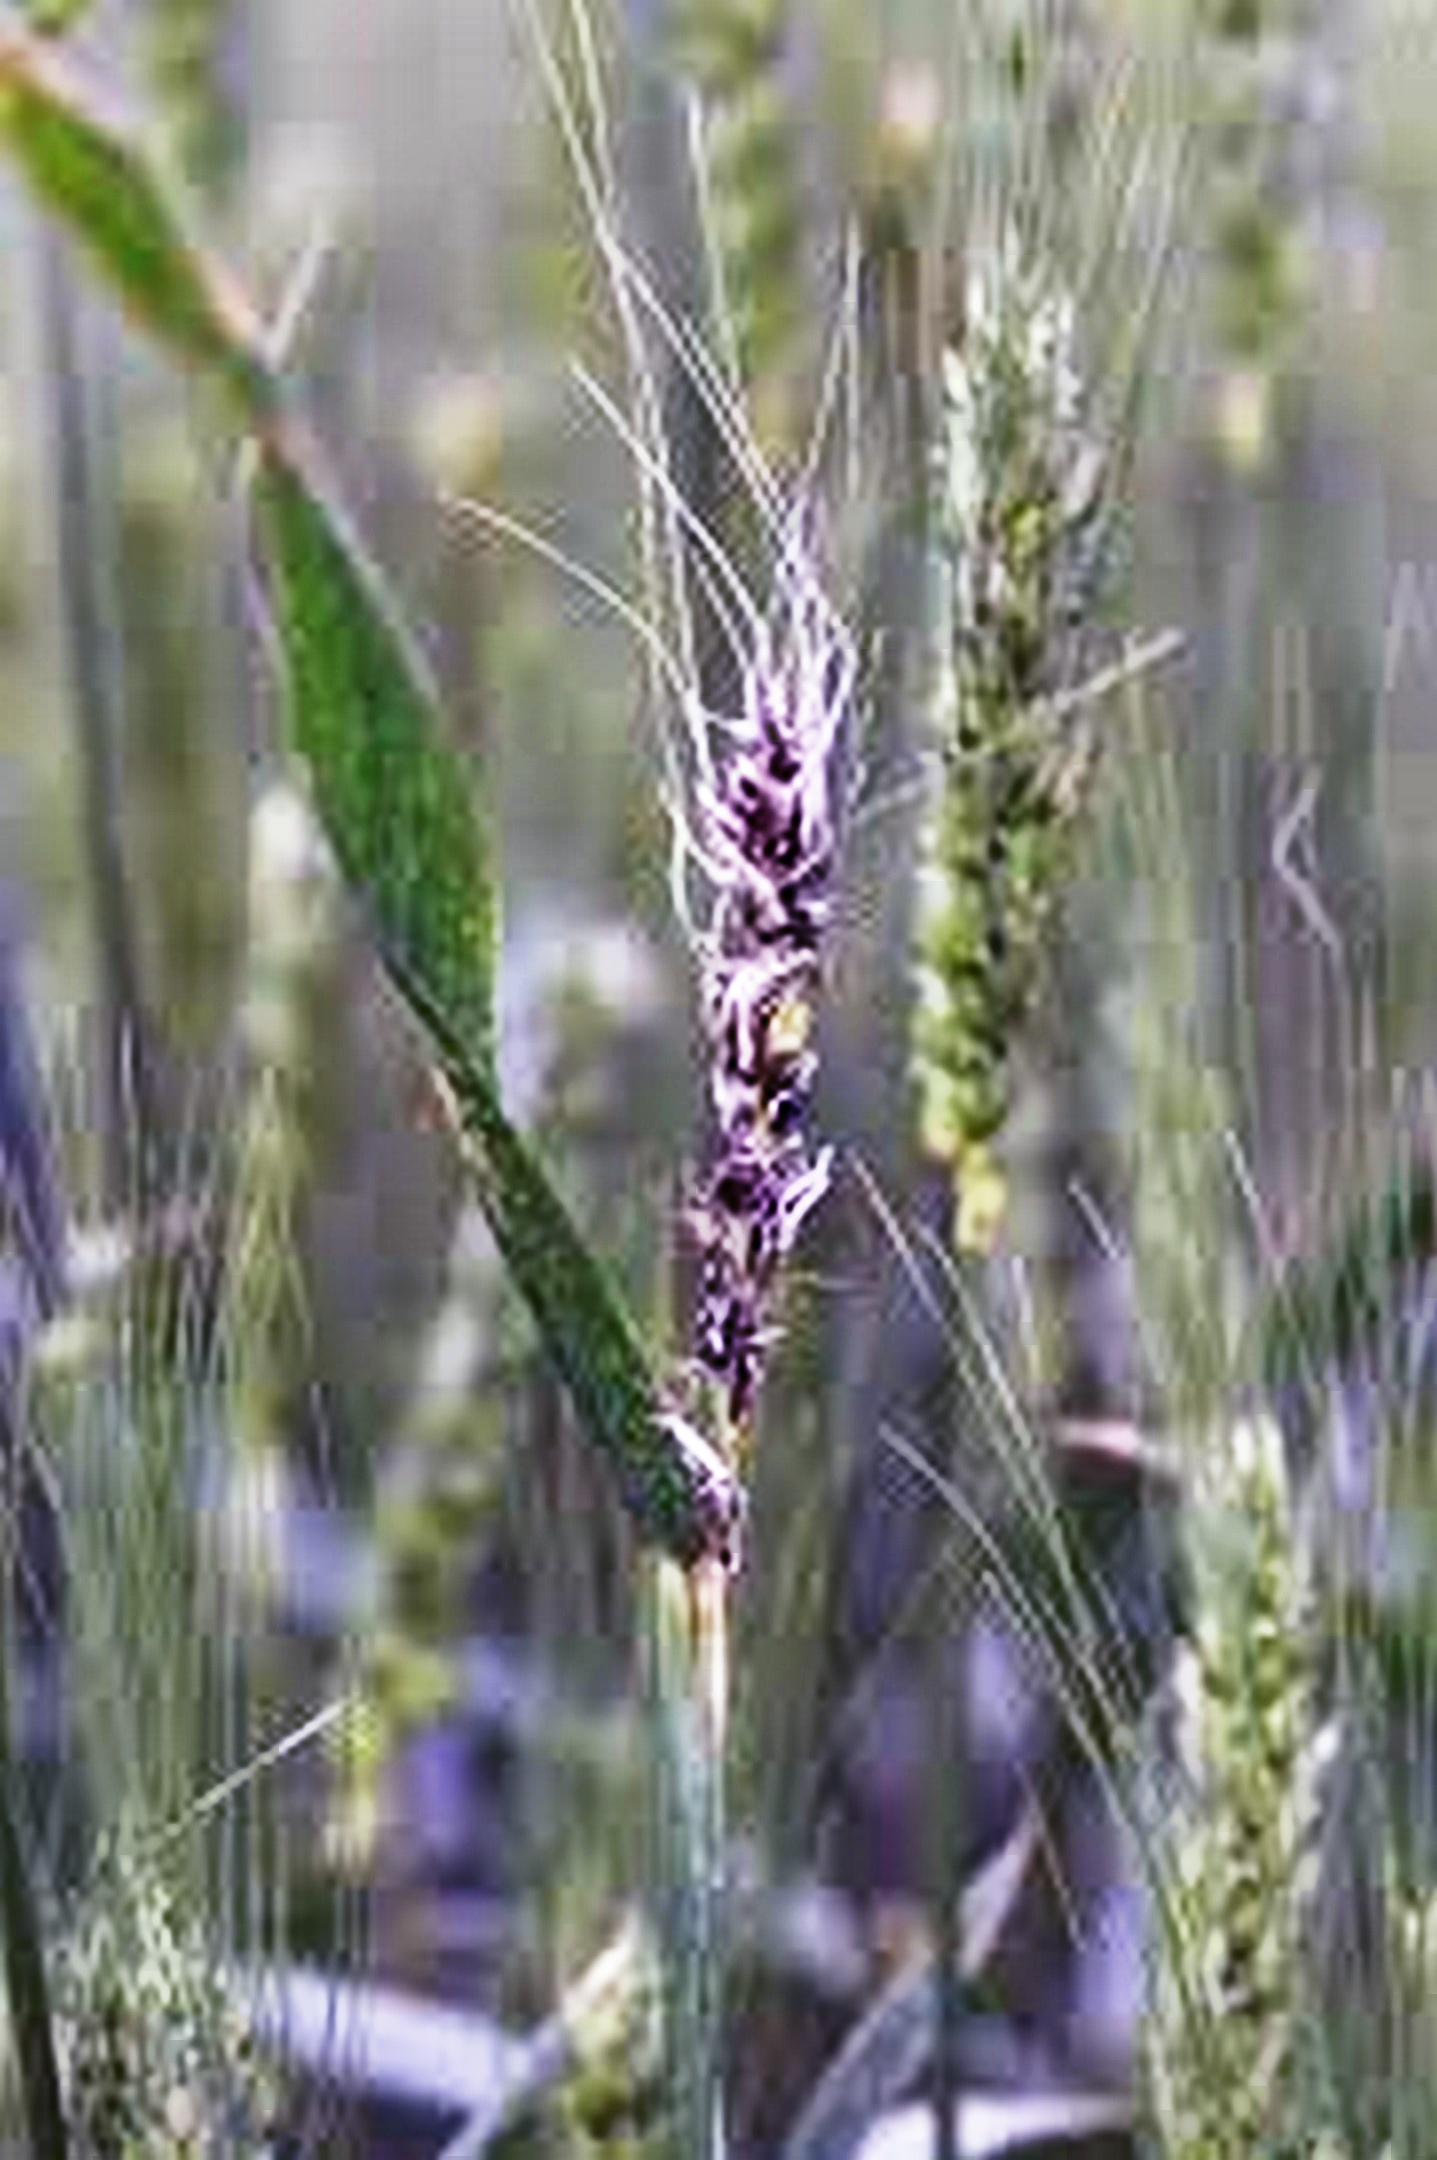Wheat Loose Smut: (650, 619, 877, 1450)
